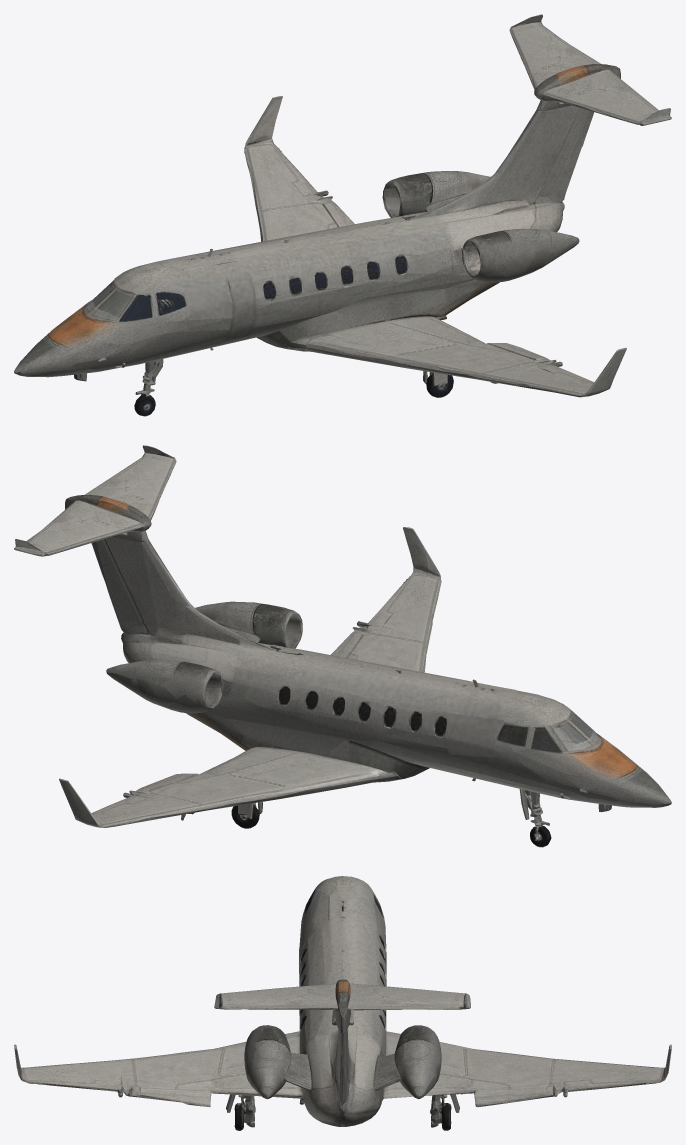
The model's file is jet_private.glb.
3 renders of one model, top to bottom at view 1: azimuth 30°, elevation 25°; view 2: azimuth 150°, elevation 25°; view 3: azimuth 270°, elevation 25°, orthographic. The views are drawn at different scales.
Bounding box in the file's own units: 1.9 × 0.7266 × 1.88.
1 material, 1 textured.
